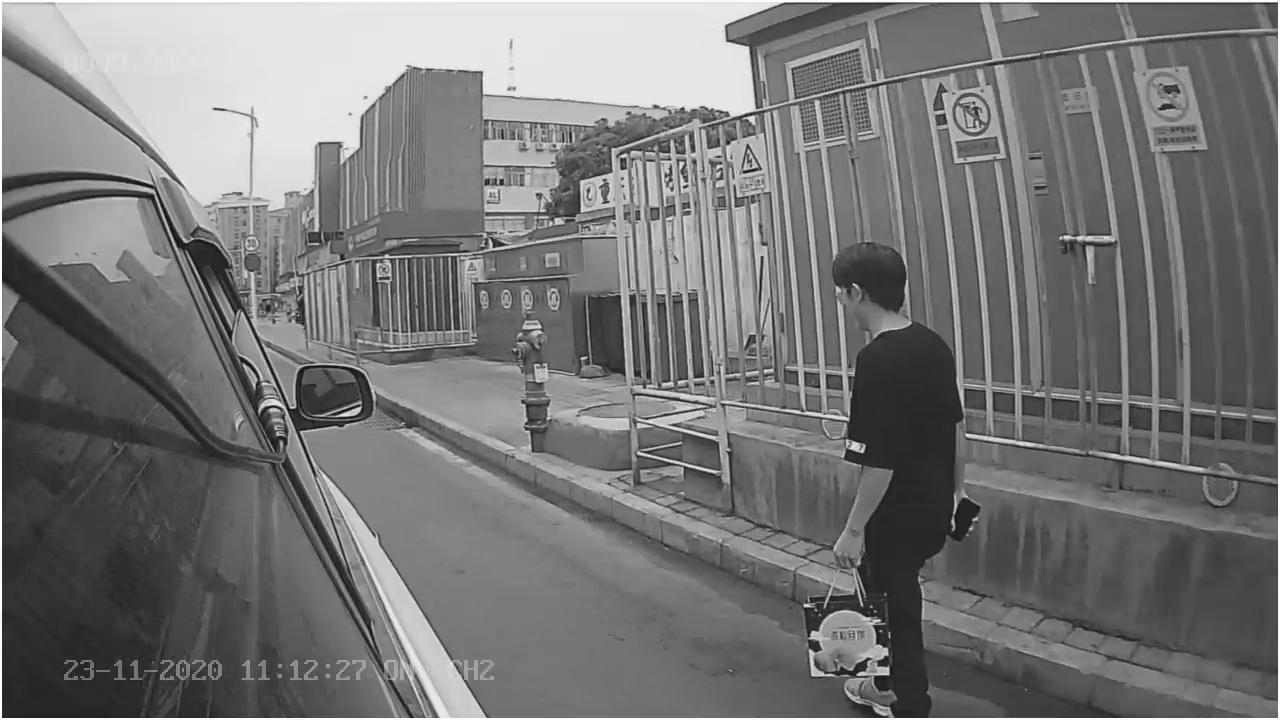person: (802, 248, 980, 667)
